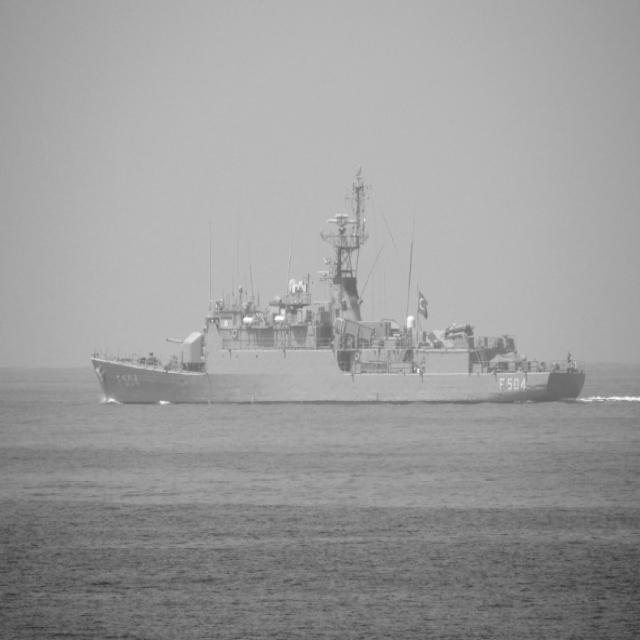Fragata: (89, 159, 589, 412)
